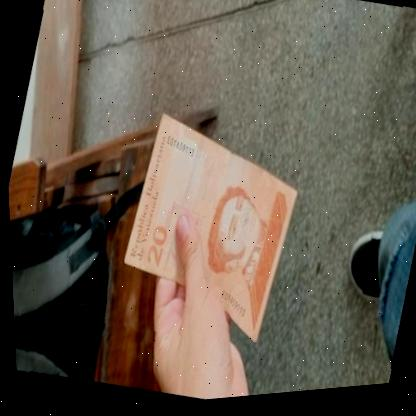twenty-front-vef: (100, 103, 315, 361)
